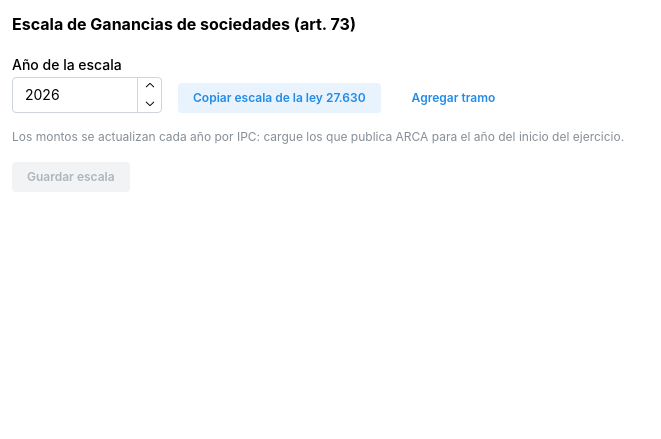
Test: DJ de Ganancias de sociedades (web, E46) › pulido E49: quitar un tramo de la escala
Step 1. Click the button "Copiar escala de la ley 27.630" → (279, 98), box [178,83,381,113]
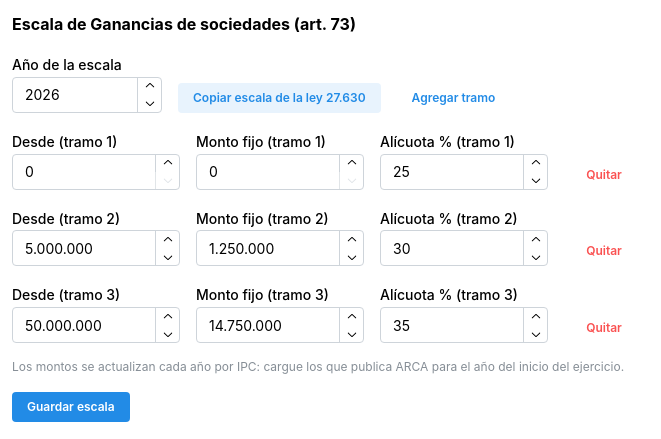
Step 2. Click the button with aria-label "Quitar tramo 2" → (604, 251), box [564,236,644,266]
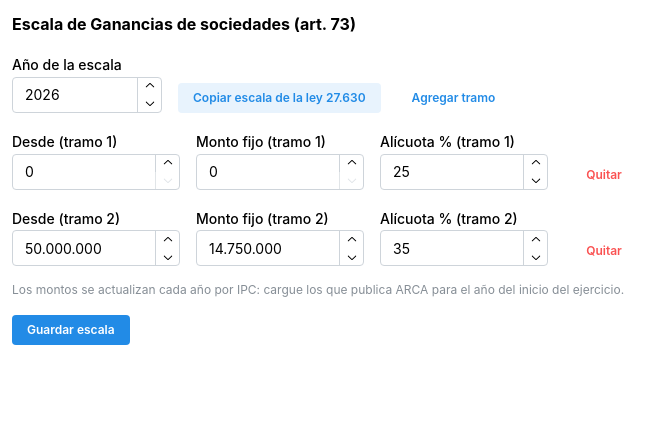
expect the number of fields labelled "Desde (tramo 1)" is 2: met, box [12,154,180,190]; [12,230,180,266]
expect the field labelled "Monto fijo (tramo 2)" holds "14.750.000": met, box [196,230,364,266]
